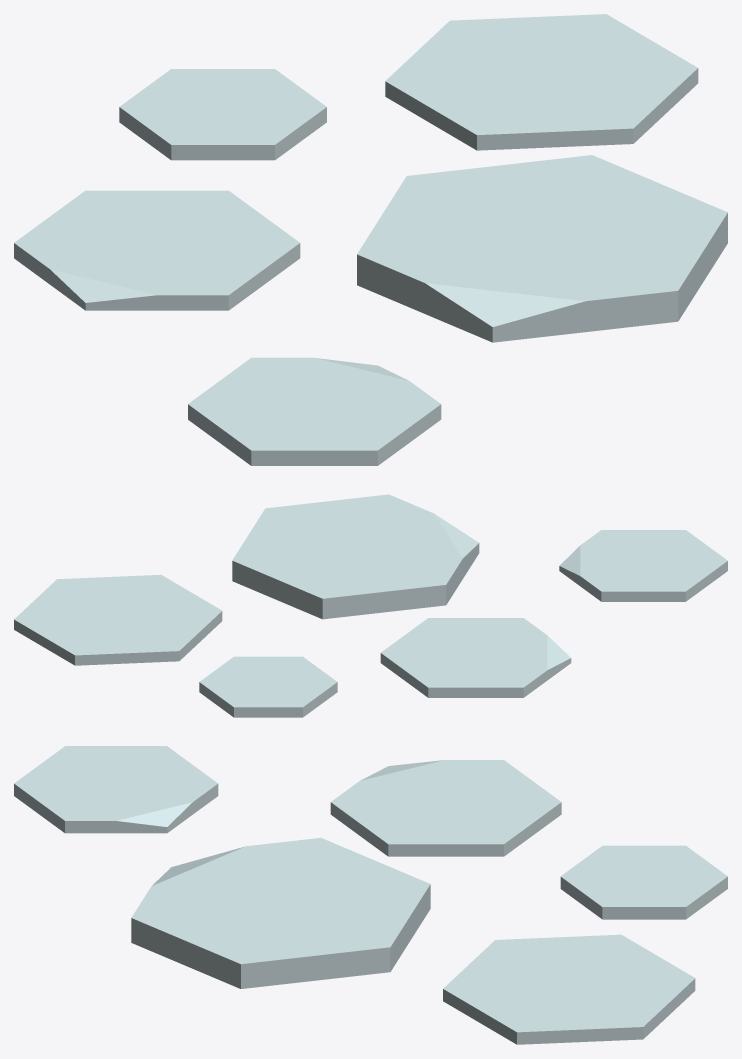
File: path-stonecorner.gltf
The picture shows the model from 3 angles, top to bottom: view 1: azimuth 30°, elevation 25°; view 2: azimuth 150°, elevation 25°; view 3: azimuth 270°, elevation 25°; orthographic projection. The views are drawn at different scales.
Visible parts, largest first — view 1: path_stoneCorner; view 2: path_stoneCorner; view 3: path_stoneCorner.
Boxes of the visible parts, x1,y1,x2,y2 form: path_stoneCorner: (14,14,727,465); path_stoneCorner: (14,494,727,717); path_stoneCorner: (14,746,727,1044).
Size of the model in its own units: 1.48 by 0.06 by 1.56.
